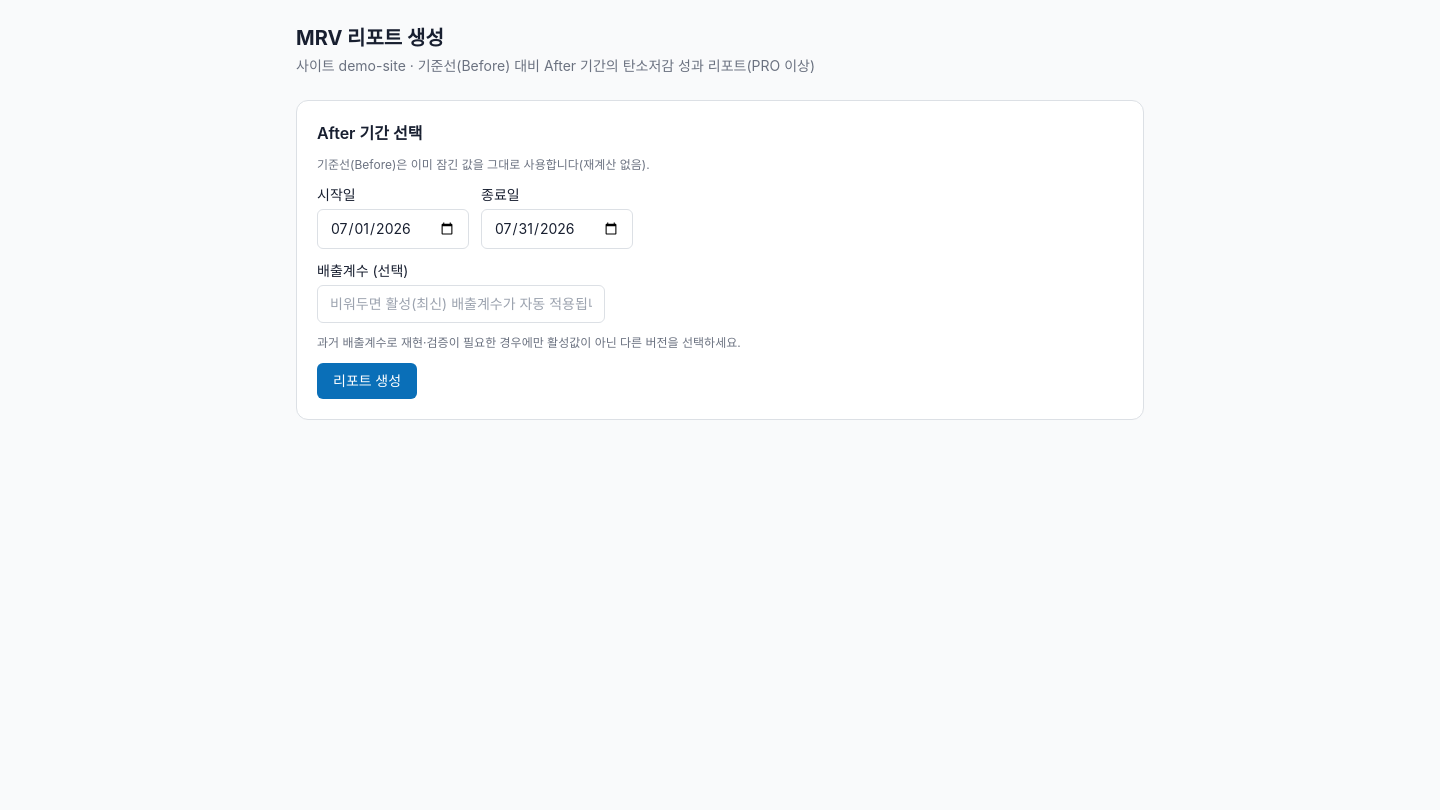
it: MrvReportGeneratePage › 생성 버튼 클릭 시 확인 다이얼로그가 열린다
Click the button "리포트 생성" at (367, 381), box [317, 363, 417, 399]
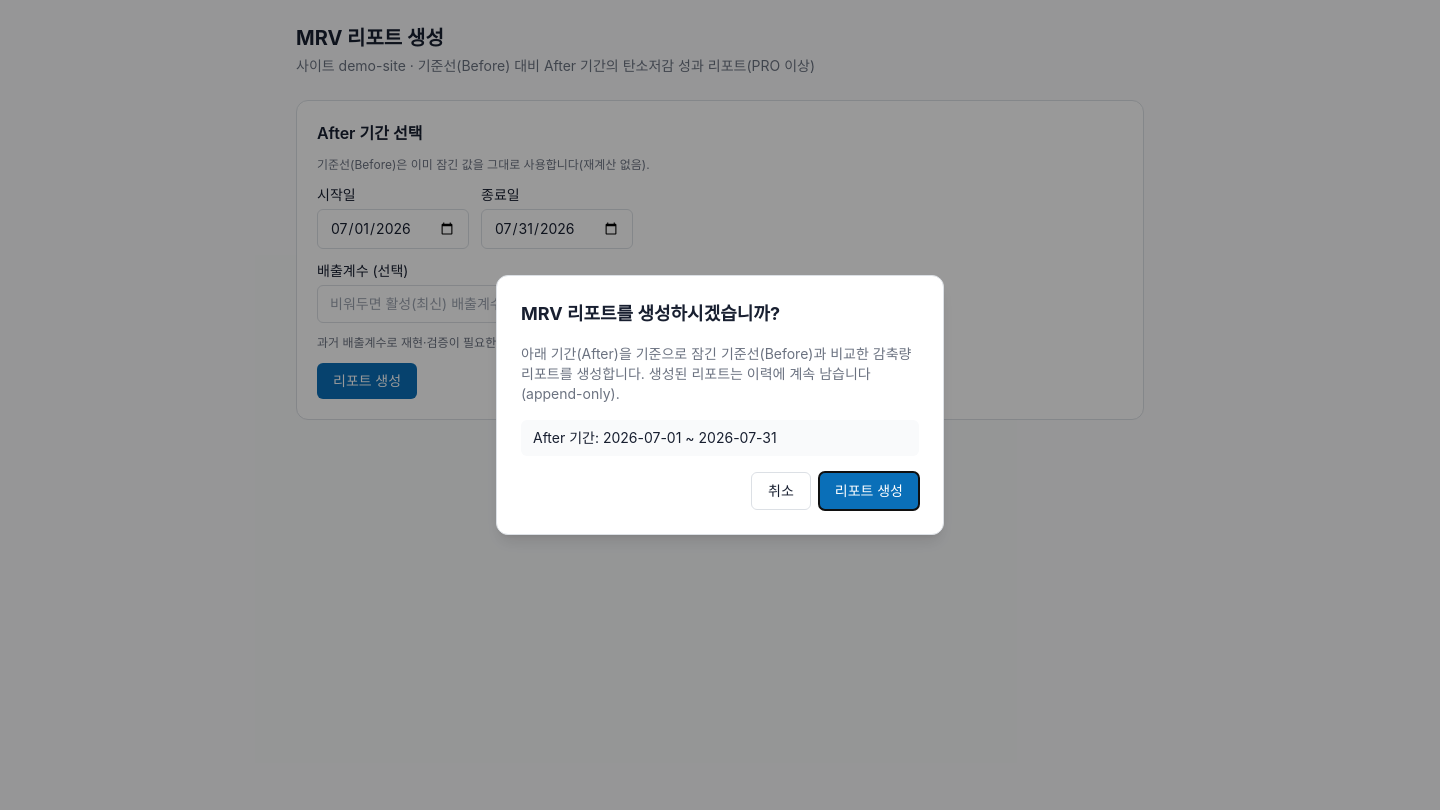
Check: the dialog is shown, box [496, 275, 944, 535]
Check: the heading "MRV 리포트를 생성하시겠습니까?" is shown, box [521, 303, 780, 324]
